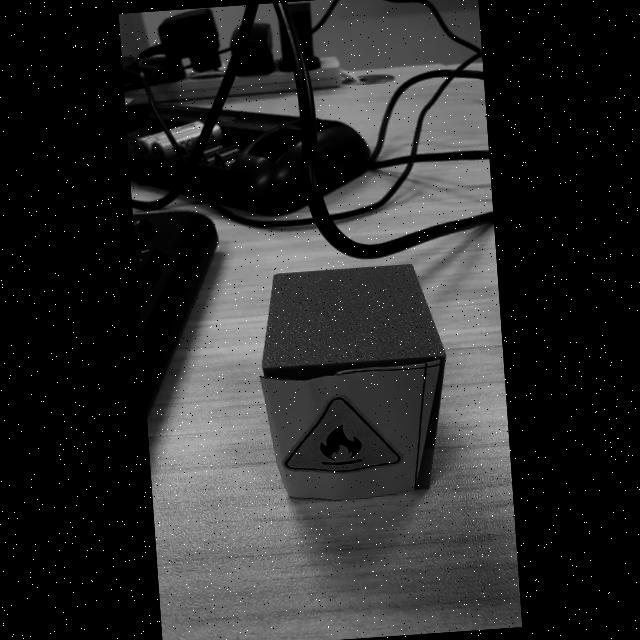Fire: (283, 397, 400, 472)
